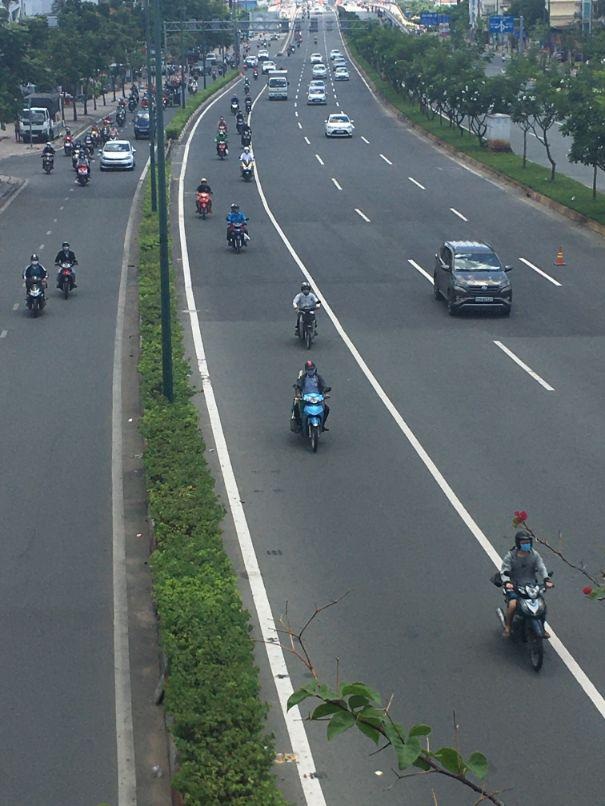car: (431, 241, 513, 320), (100, 142, 136, 175), (325, 112, 356, 139), (308, 81, 328, 104), (133, 111, 150, 138)
motorbike: (499, 565, 554, 671), (303, 396, 325, 453), (225, 215, 249, 253), (295, 310, 317, 349), (24, 279, 46, 317), (56, 262, 78, 299), (241, 149, 256, 179)
truck: (21, 93, 63, 146), (269, 74, 290, 102)
